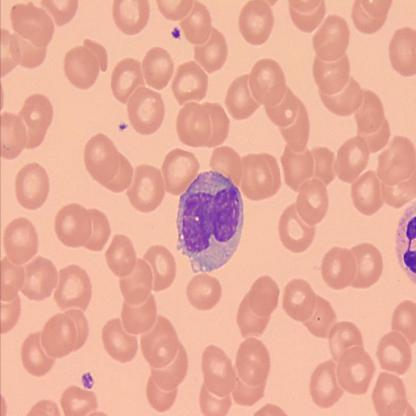Monocyte: (174, 167, 245, 275)
